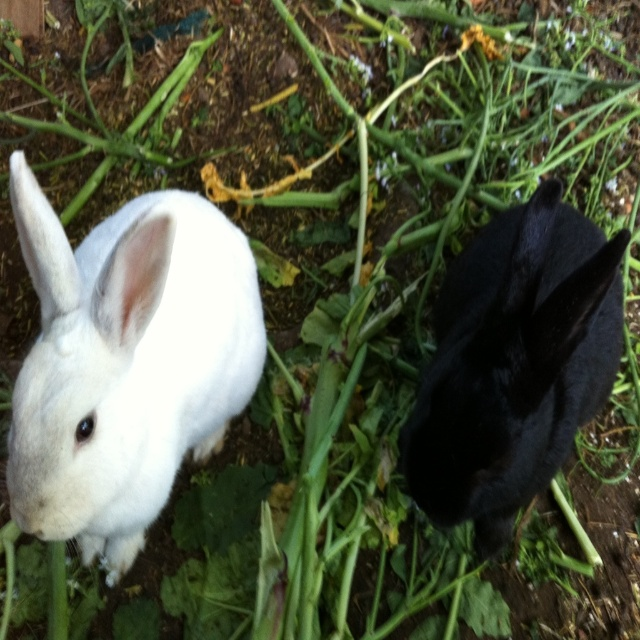Rabbit: (9, 150, 267, 591), (398, 179, 632, 567)
